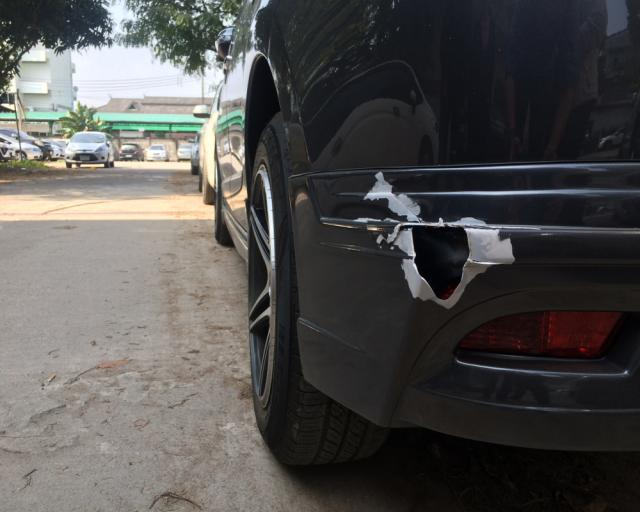crack: (379, 224, 472, 301)
